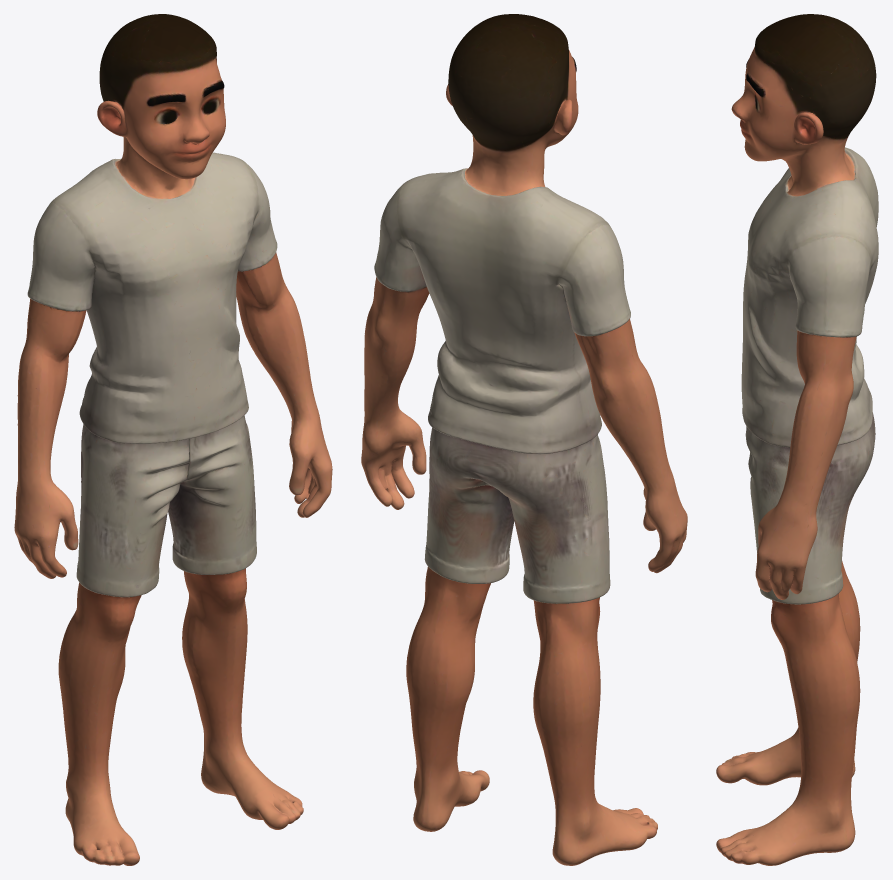
File: corpo-masculino.glb
3 views of the same model, side by side, from view 1: azimuth 30°, elevation 25°; view 2: azimuth 150°, elevation 25°; view 3: azimuth 270°, elevation 25° (orthographic). The views are drawn at different scales.
Parts seen in each view (by area): view 1: world; view 2: world; view 3: world.
Boxes of the visible parts, x1,y1,x2,y2 form: world: (14,14,332,865); world: (361,14,687,865); world: (716,14,878,865).
Size of the model in its own units: 0.4042 by 1 by 0.185.
1 material, 1 textured.
